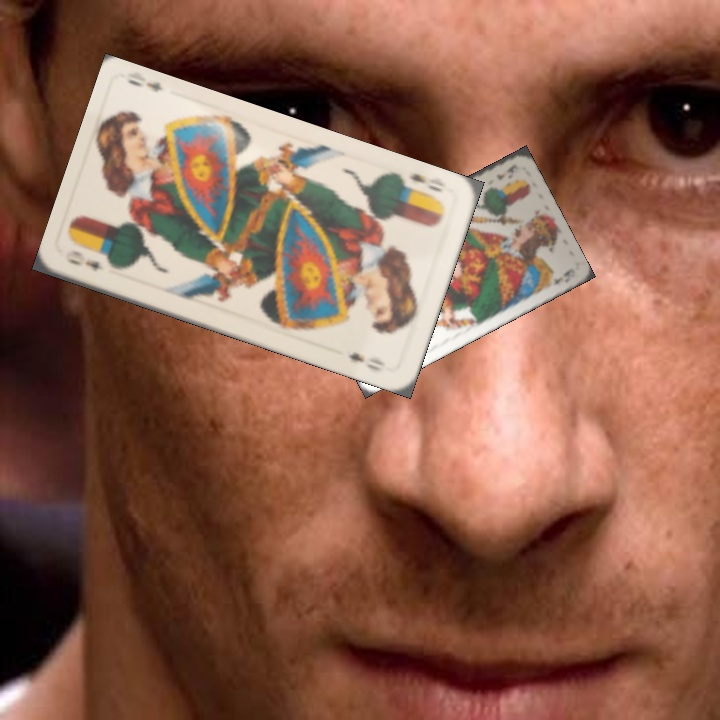EK: (493, 160, 521, 183)
EO: (395, 169, 446, 204), (61, 246, 107, 274)
